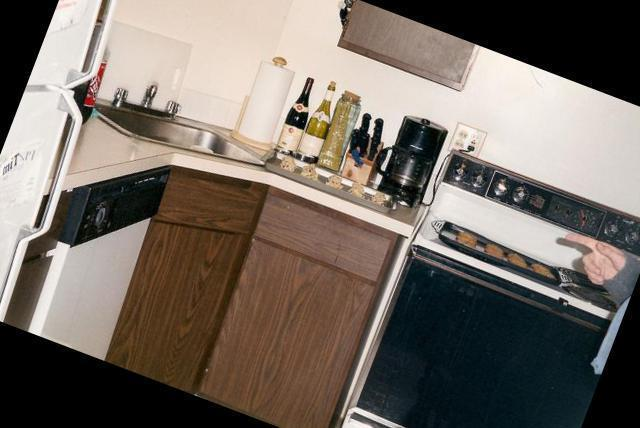Lavaplatos: (76, 60, 280, 194)
